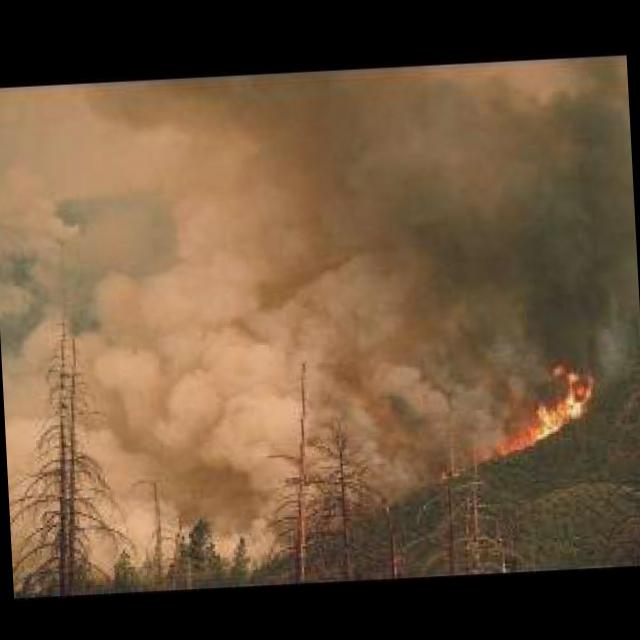fire: (492, 357, 608, 451)
smoke: (448, 65, 640, 395)
